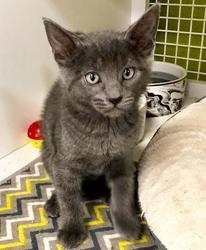rblue: (41, 8, 161, 126)
